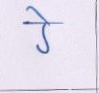e_matra: (27, 6, 51, 22)
